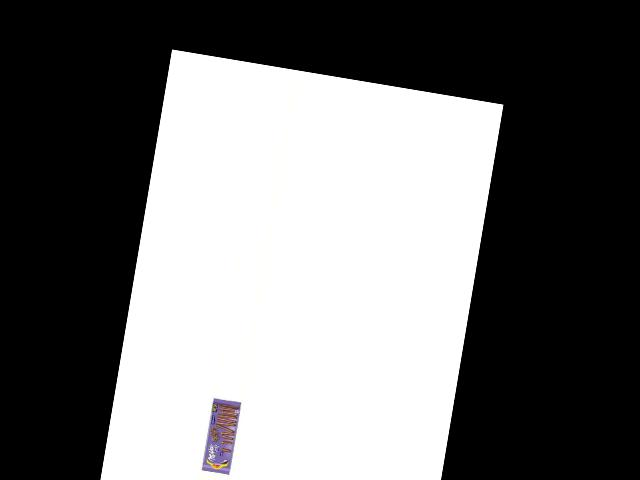chocolate: (200, 396, 245, 476)
